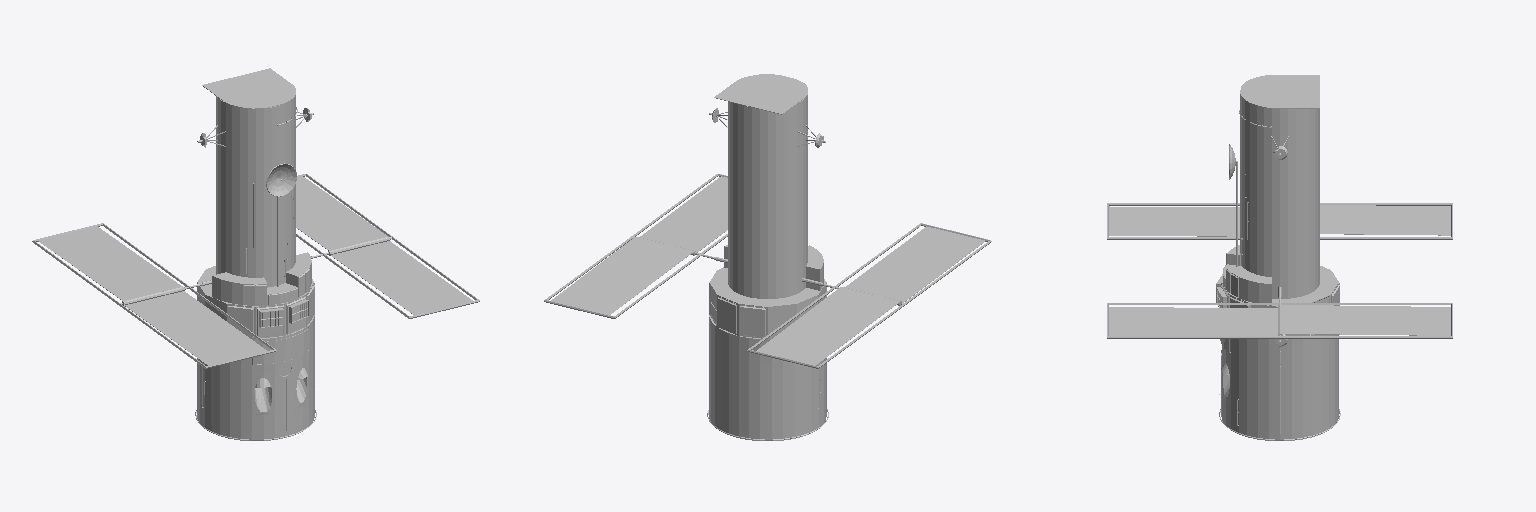
File: hst.obj
3 views of the same model, side by side, from view 1: azimuth 30°, elevation 25°; view 2: azimuth 150°, elevation 25°; view 3: azimuth 270°, elevation 25° (orthographic).
Parts seen in each view (by area): view 1: hst_0; view 2: hst_0; view 3: hst_0.
Boxes of the visible parts, box(x1,y1,x2,y2) form: hst_0: box(32, 68, 479, 440); hst_0: box(544, 74, 991, 440); hst_0: box(1107, 75, 1452, 440).
Size of the model in its own units: 0.4582 by 0.5255 by 0.5013.